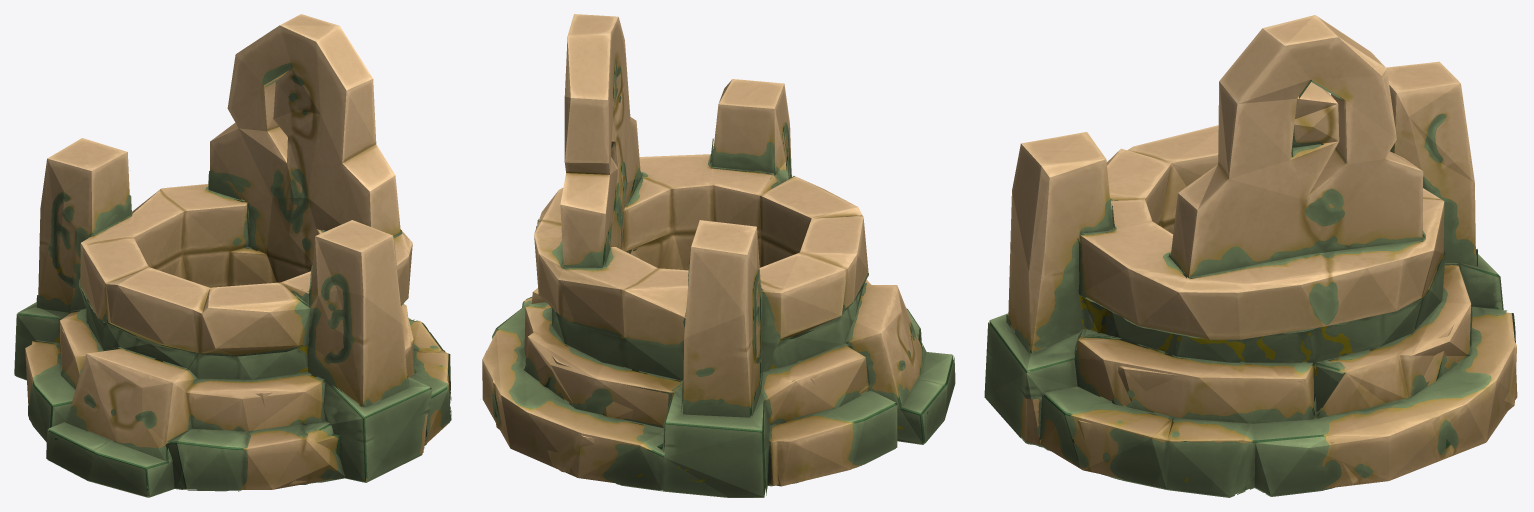
Rendered from prop_wishing_well.glb.
3 renders of one model, left to right at view 1: azimuth 30°, elevation 25°; view 2: azimuth 150°, elevation 25°; view 3: azimuth 270°, elevation 25°, orthographic. The views are drawn at different scales.
Visible parts, largest first — view 1: world, geometry_0MossShell; view 2: world, geometry_0MossShell; view 3: world, geometry_0MossShell.
Boxes of the visible parts, x1,y1,x2,y2 form: world: (18, 14, 449, 496); geometry_0MossShell: (14, 63, 451, 497); world: (482, 14, 952, 495); geometry_0MossShell: (492, 60, 955, 497); world: (990, 15, 1517, 490); geometry_0MossShell: (984, 80, 1515, 497).
Size of the model in its own units: 0.9926 by 0.8743 by 1.01.
Materials: 2 (2 with a texture image).
